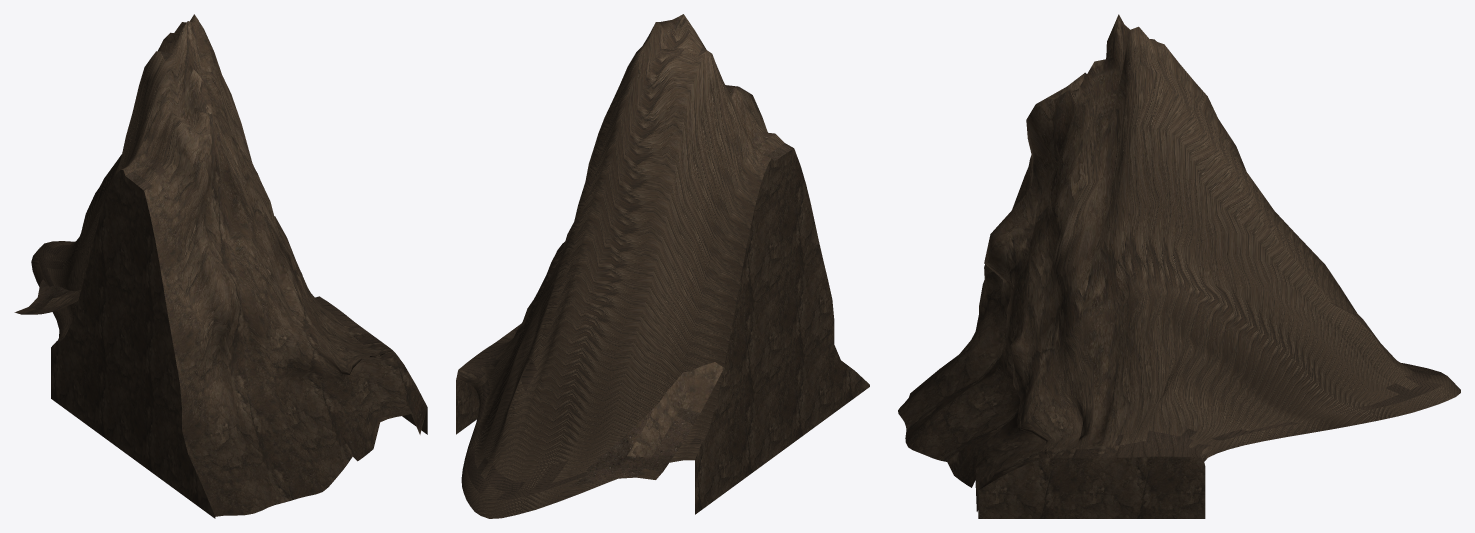
The model's file is seacliff_endcap_right_h5_a_v5_dead.glb.
3 renders of one model, left to right at view 1: azimuth 30°, elevation 25°; view 2: azimuth 150°, elevation 25°; view 3: azimuth 270°, elevation 25°, orthographic. The views are drawn at different scales.
Visible parts, largest first — view 1: seacliff_endcap_right_h5_a; view 2: seacliff_endcap_right_h5_a; view 3: seacliff_endcap_right_h5_a.
Boxes of the visible parts, x1,y1,x2,y2 form: seacliff_endcap_right_h5_a: [14, 14, 427, 518]; seacliff_endcap_right_h5_a: [456, 14, 869, 518]; seacliff_endcap_right_h5_a: [898, 14, 1460, 518].
Bounding box in the file's own units: 6 × 9.49 × 11.57.
2 materials, 2 textured.
